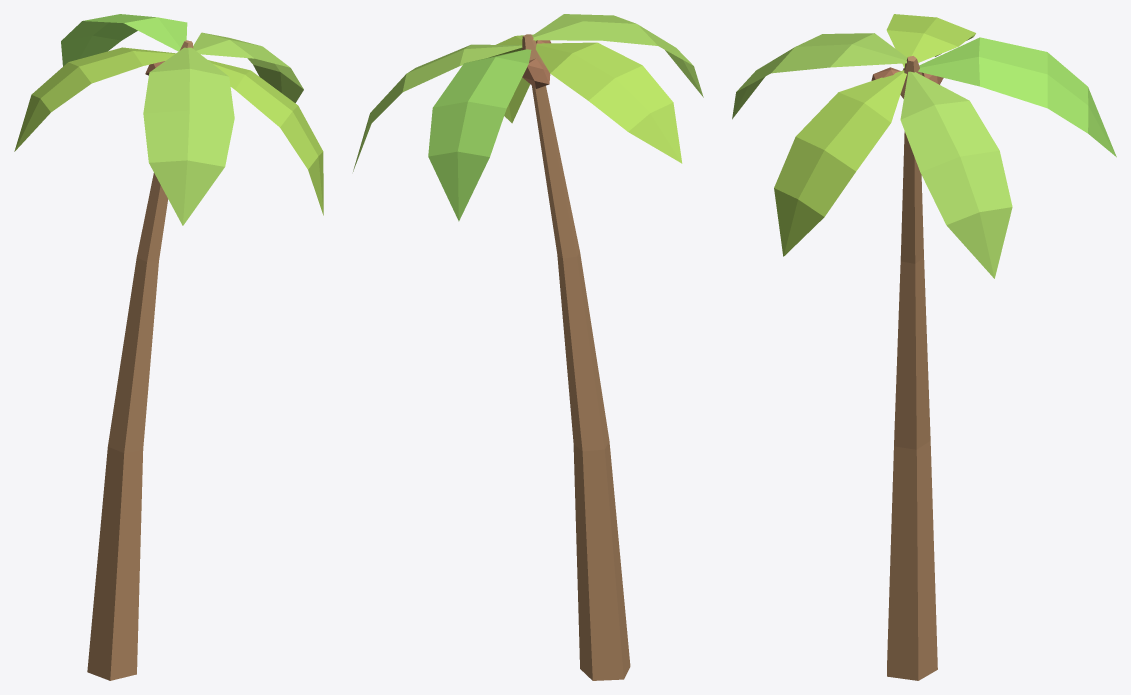
Rendered from Palm_Tree_Coconut_s_02_LOD.fbx.
3 views of the same model, side by side, from view 1: azimuth 30°, elevation 25°; view 2: azimuth 150°, elevation 25°; view 3: azimuth 270°, elevation 25° (orthographic). The views are drawn at different scales.
Visible parts, largest first — view 1: Palm_Tree_Coconut_s_02_LOD0; view 2: Palm_Tree_Coconut_s_02_LOD0; view 3: Palm_Tree_Coconut_s_02_LOD0.
Part boxes in pixels (x1=…): Palm_Tree_Coconut_s_02_LOD0: x1=14, y1=14, x2=323, y2=680; Palm_Tree_Coconut_s_02_LOD0: x1=353, y1=14, x2=703, y2=680; Palm_Tree_Coconut_s_02_LOD0: x1=732, y1=14, x2=1116, y2=680.
Size of what is drawn, in the model's own units: 243 by 478 by 255.
